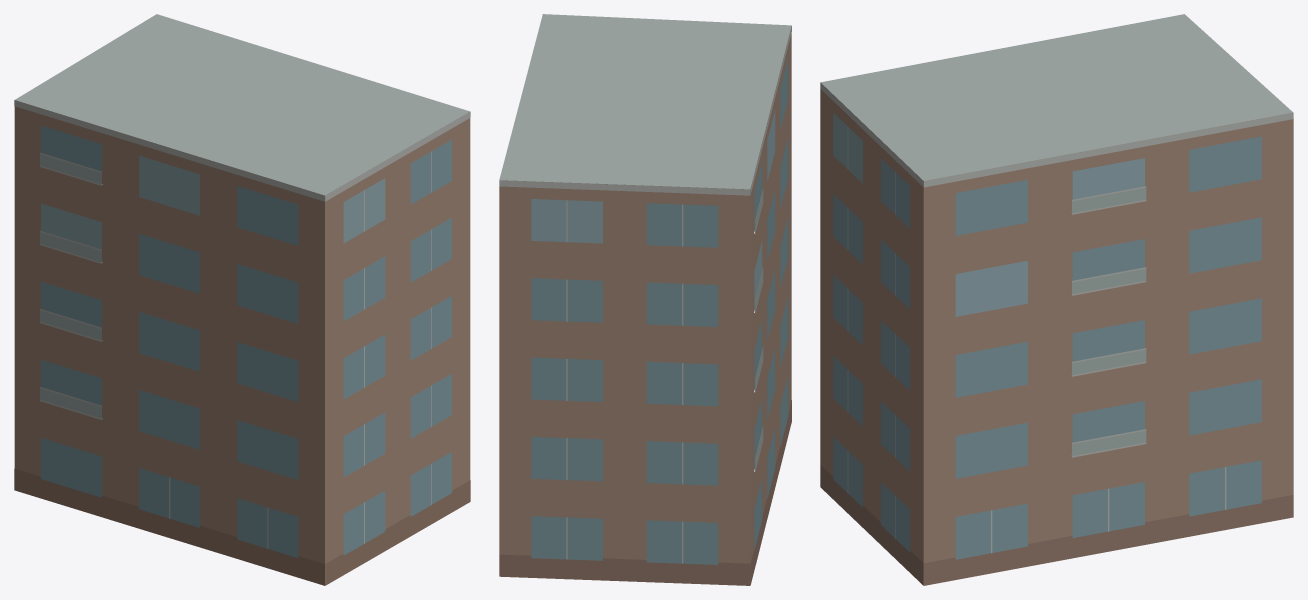
Rendered from residential-b685f595-f45f-46a3-a13e-7b144100e7f4.glb.
3 views of the same model, side by side, from view 1: azimuth 30°, elevation 25°; view 2: azimuth 150°, elevation 25°; view 3: azimuth 270°, elevation 25° (orthographic). The views are drawn at different scales.
Visible parts, largest first — view 1: residential-b685f595-f45f-46a3-a13e-7b144100e7f4.tmp; view 2: residential-b685f595-f45f-46a3-a13e-7b144100e7f4.tmp; view 3: residential-b685f595-f45f-46a3-a13e-7b144100e7f4.tmp.
Boxes of the visible parts, x1,y1,x2,y2 form: residential-b685f595-f45f-46a3-a13e-7b144100e7f4.tmp: (14,14,470,585); residential-b685f595-f45f-46a3-a13e-7b144100e7f4.tmp: (499,14,791,585); residential-b685f595-f45f-46a3-a13e-7b144100e7f4.tmp: (820,14,1293,585).
Bounding box in the file's own units: 13.51 × 15.25 × 16.16.
